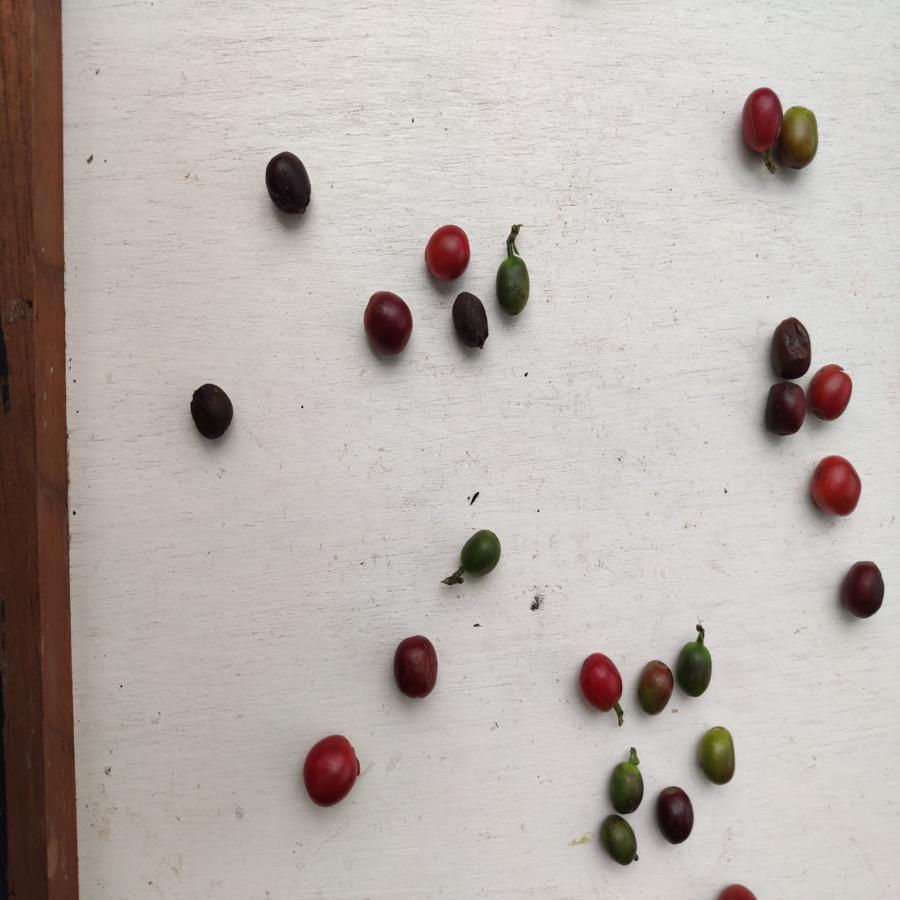Inmaduro: (490, 247, 535, 317), (456, 527, 510, 577), (674, 641, 717, 695), (601, 812, 644, 865), (609, 756, 645, 815)
Maduro: (300, 733, 365, 807), (808, 456, 863, 520), (574, 651, 623, 713), (423, 223, 471, 281), (808, 363, 853, 424), (743, 85, 778, 160)
Pinton: (777, 98, 819, 173), (695, 723, 738, 786), (636, 656, 675, 716)
Sobremaduro: (360, 290, 416, 357), (258, 151, 313, 219), (389, 633, 437, 702), (184, 380, 235, 442), (652, 782, 700, 846), (767, 315, 811, 382), (759, 377, 808, 435), (839, 557, 887, 616), (450, 291, 489, 351)
